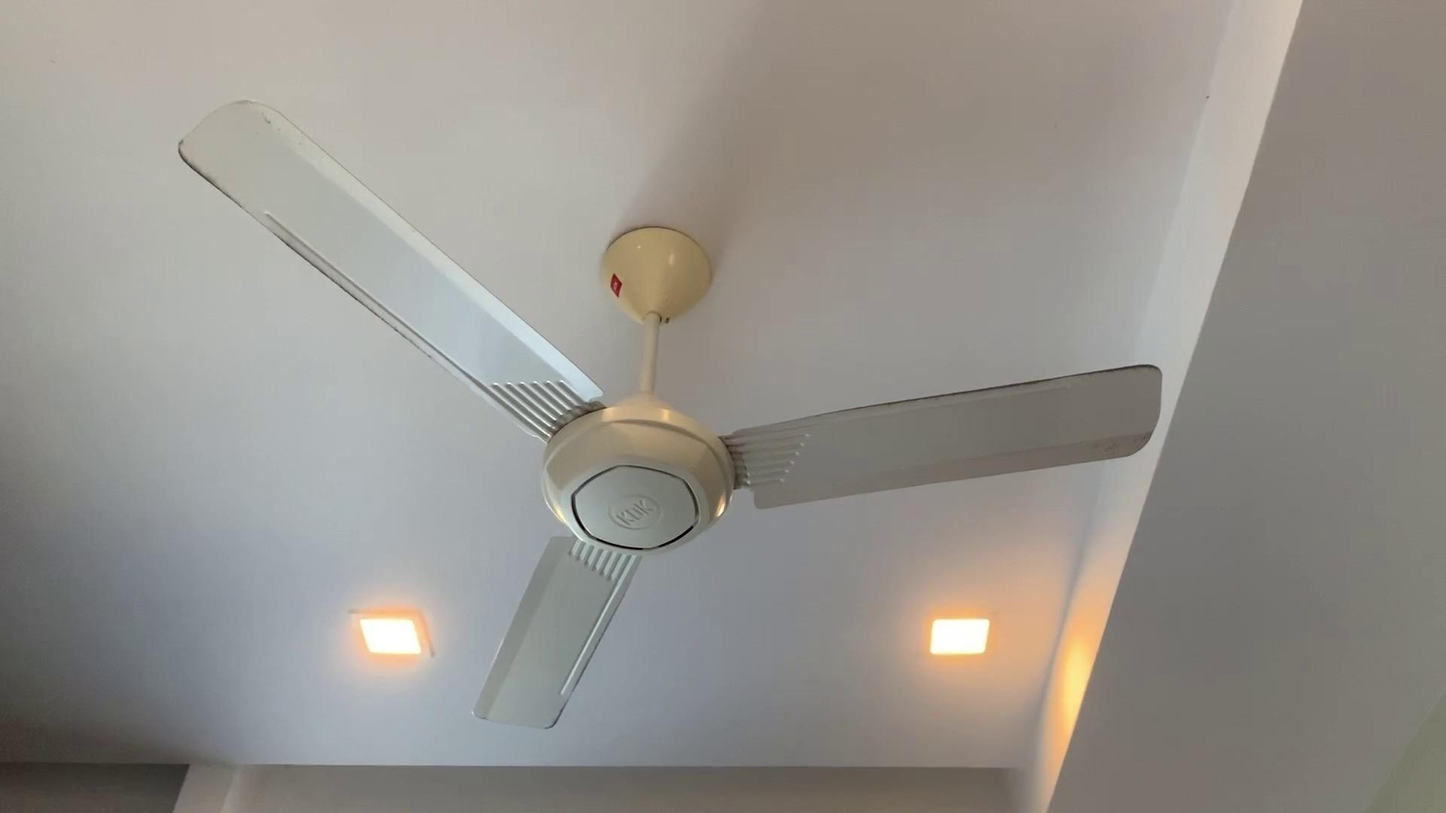fan: (167, 91, 1167, 734)
light: (907, 603, 1023, 684), (347, 578, 439, 666)
